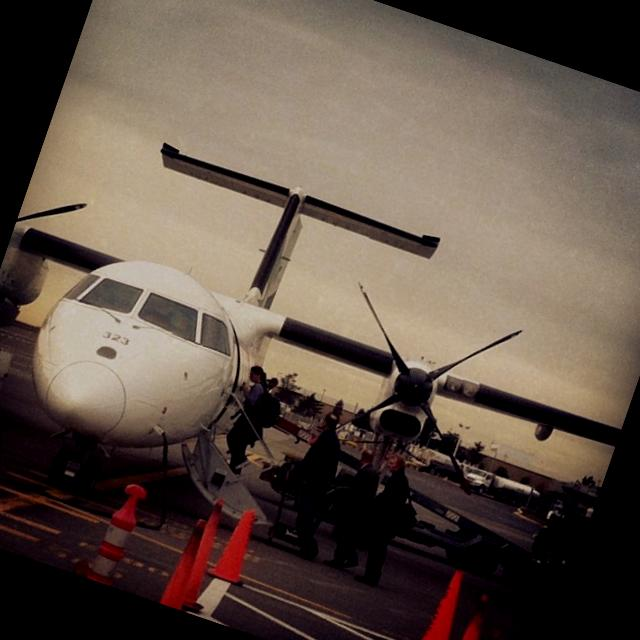Vehicle: (461, 465, 542, 513), (0, 336, 19, 485)
